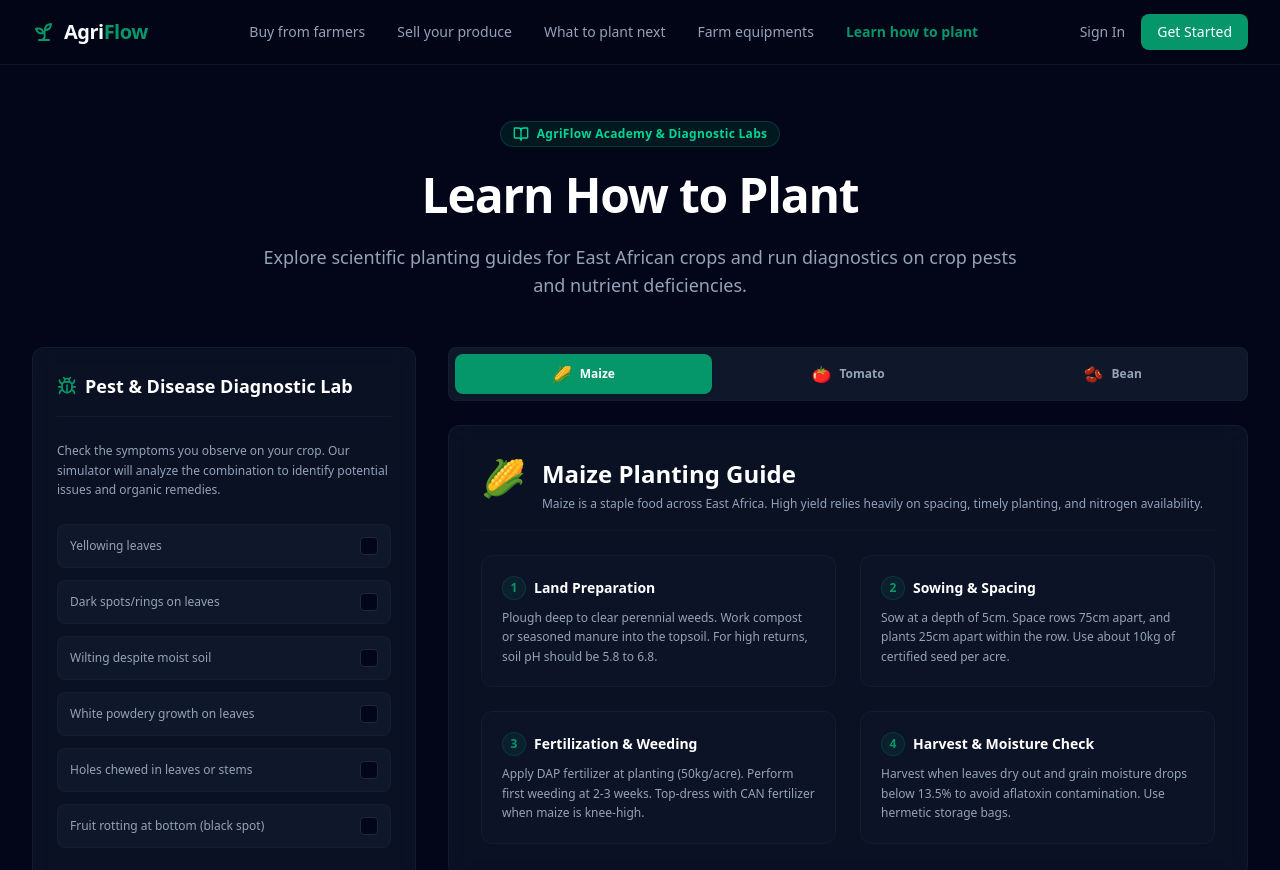
Test: Learn Page & Diagnostic Lab › runs diagnostic analysis based on selected symptoms
The image size is (1280, 870).
Click the button "Yellowing leaves" at [116, 545], box [57,524,391,568]
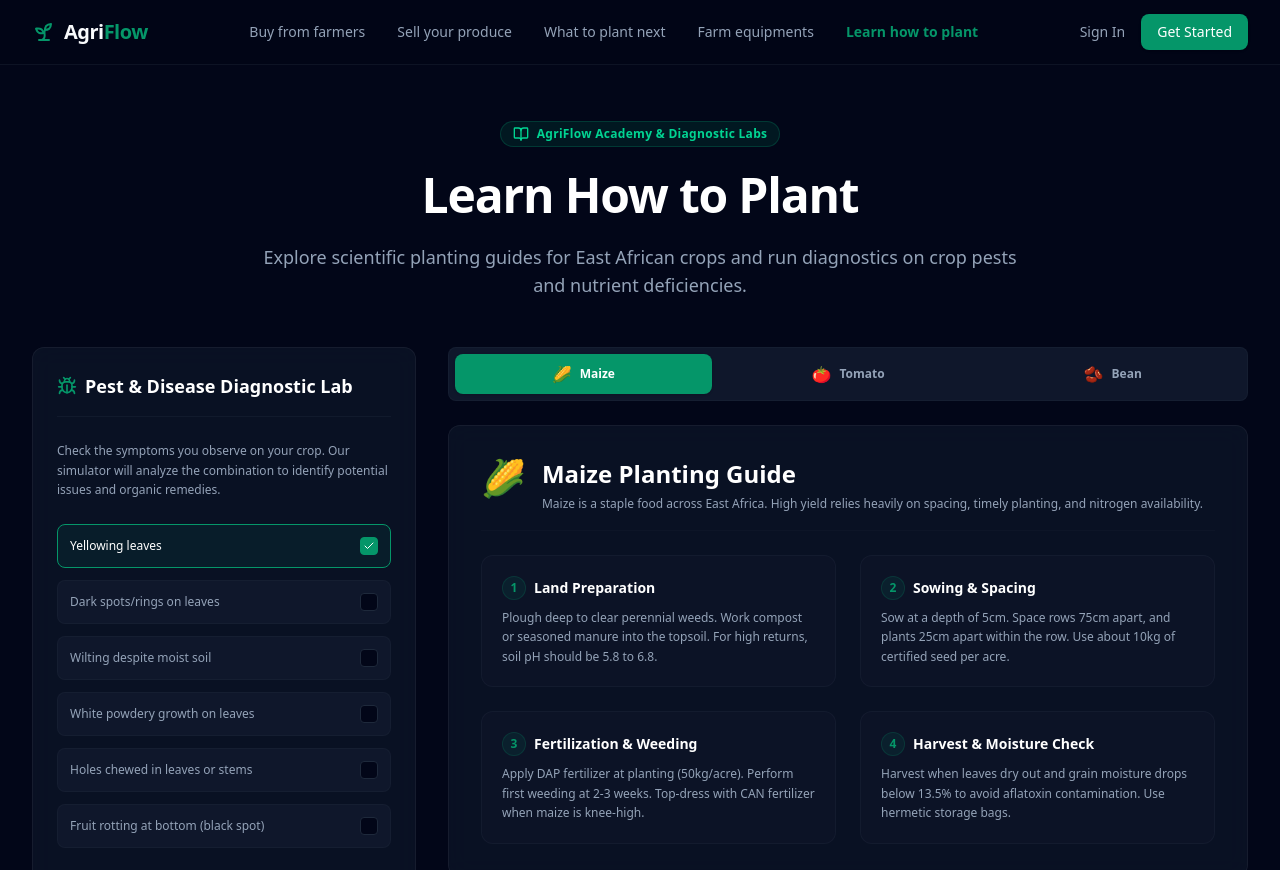
Click the button "Dark spots/rings on leaves" at [145, 601], box [57,580,391,624]
(page scrolled)
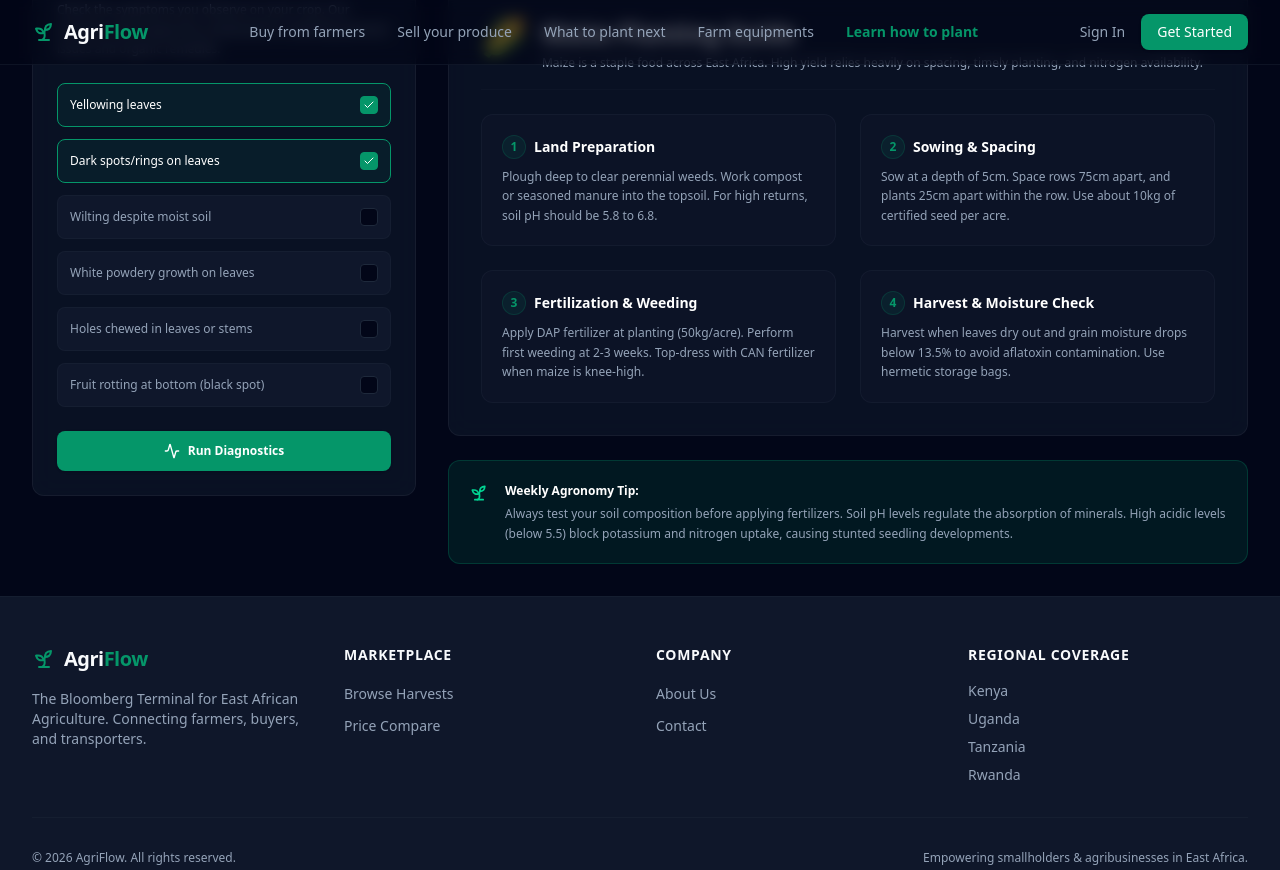
Click the button "Run Diagnostics" at [224, 450], box [57,430,391,470]
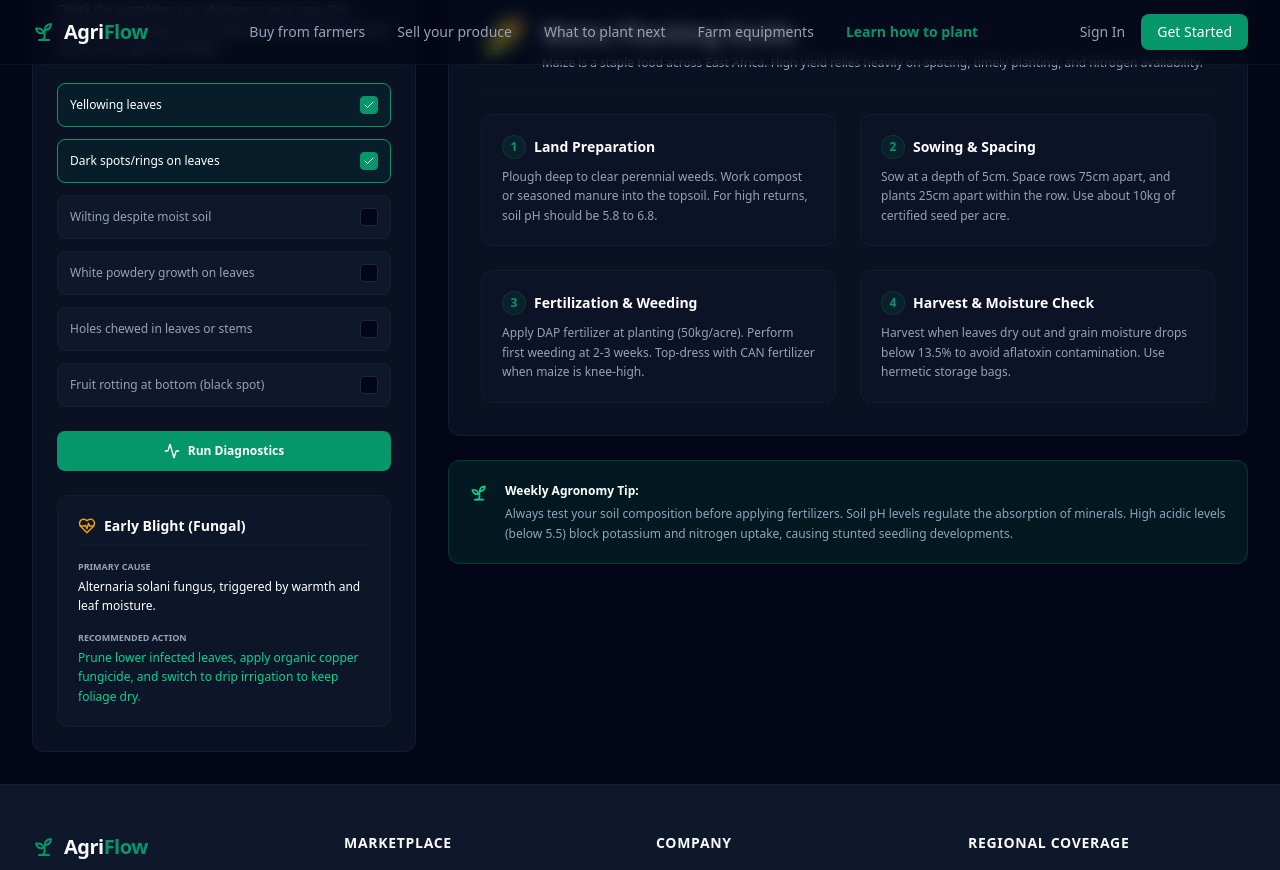
Result: the text "Early Blight (Fungal)" is shown at [104,516,245,536]
Result: the text "Alternaria solani fungus, triggered by warmth and leaf moisture." is shown at [78,576,370,616]
